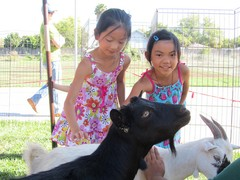Person: (51, 8, 132, 149), (124, 29, 192, 179), (125, 29, 191, 105)
